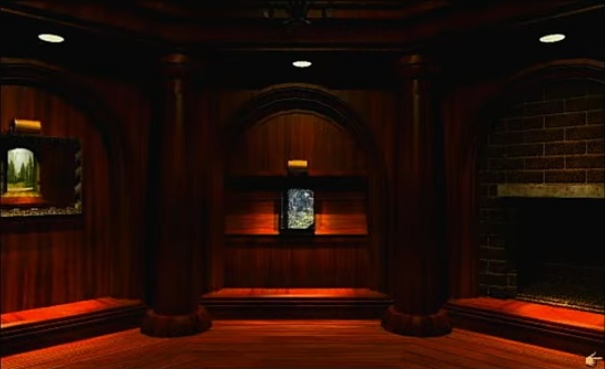Pointer: (583, 348, 605, 369)
